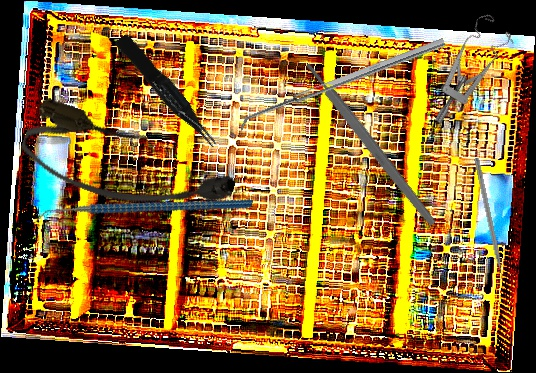Cannula: (14, 94, 242, 238)
Chopper: (33, 141, 254, 284), (467, 157, 506, 287)
Scalpel Handle: (303, 60, 438, 228)
Spatula Surgical: (236, 37, 449, 134)
Speculum: (401, 7, 530, 126)
Tissue Forceps: (114, 29, 220, 156)
